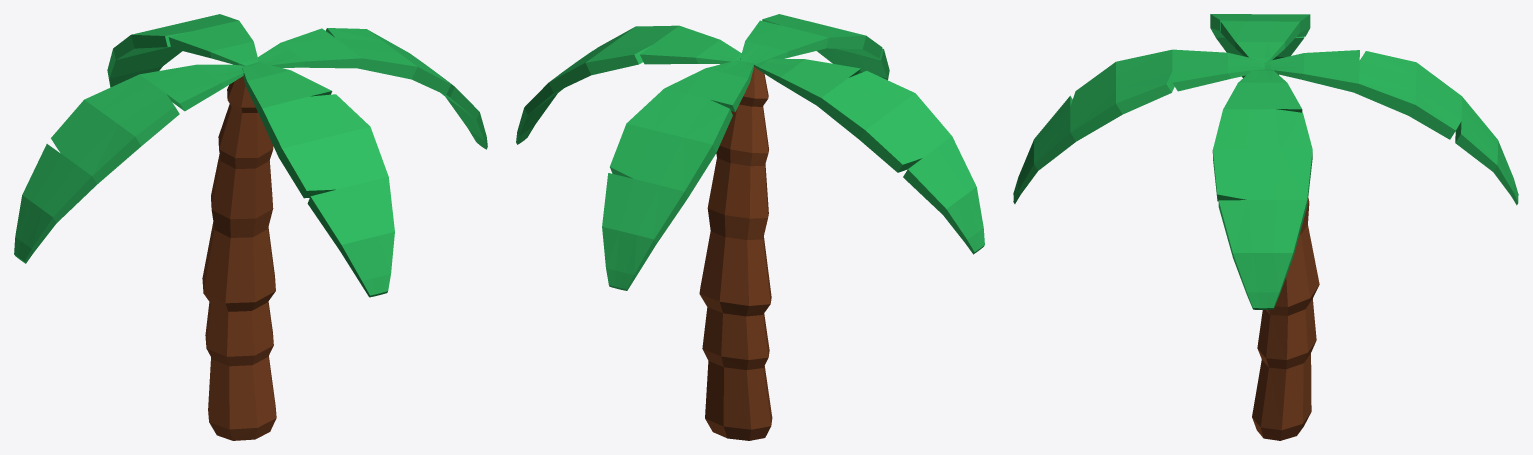
File: Palm1.fbx
The picture shows the model from 3 angles, left to right: view 1: azimuth 30°, elevation 25°; view 2: azimuth 150°, elevation 25°; view 3: azimuth 270°, elevation 25°; orthographic projection. The views are drawn at different scales.
Parts seen in each view (by area): view 1: palmafa; view 2: palmafa; view 3: palmafa.
Part boxes in pixels (x1,y1,x2,y2): palmafa: (14, 14, 487, 440); palmafa: (516, 14, 984, 440); palmafa: (1013, 14, 1518, 440).
Bounding box in the file's own units: 6.5 × 5.01 × 6.25.
Materials: 1 (1 with a texture image).
